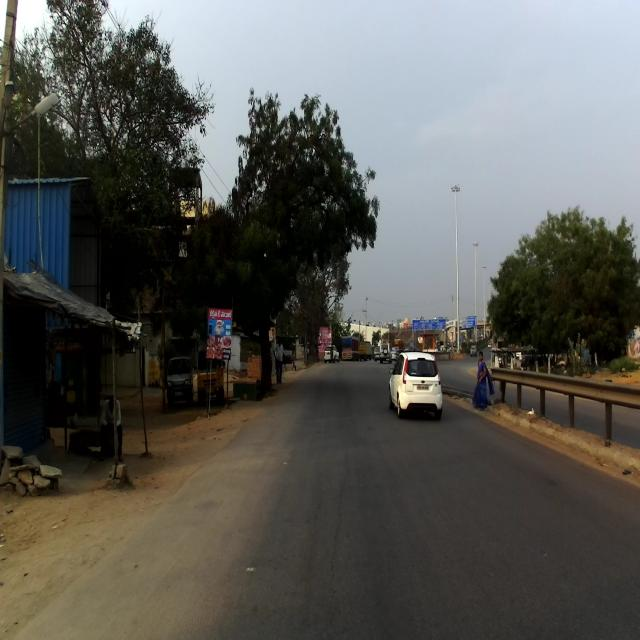car: (388, 350, 443, 420), (166, 352, 194, 407)
truck: (194, 346, 226, 404)
